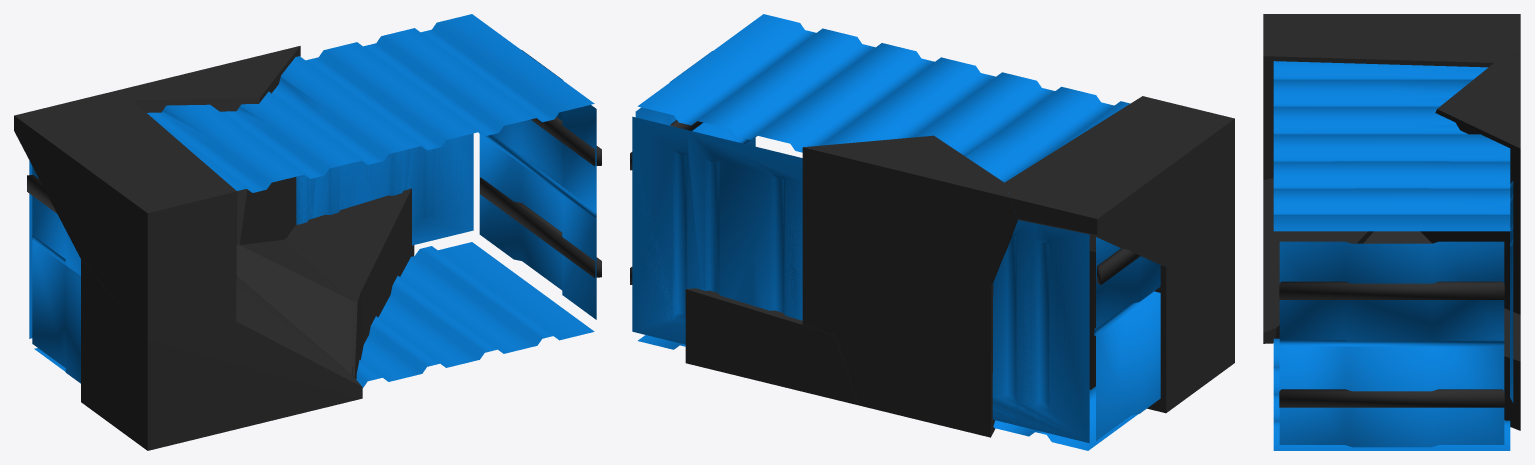
Rendered from Container Blue Destroy.fbx.
3 views of the same model, side by side, from view 1: azimuth 30°, elevation 25°; view 2: azimuth 150°, elevation 25°; view 3: azimuth 270°, elevation 25° (orthographic). The views are drawn at different scales.
Parts seen in each view (by area): view 1: Big_Container_Long.018_cell, Big_Container_Long.018_cell.001, Big_Container_Long.018_cell.006, Big_Container_Long.018_cell.009, Big_Container_Long.018_cell.010, Big_Container_Long.018_cell.003, Big_Container_Long.018_cell.013, Big_Container_Long.018_cell.015, Big_Container_Long.018_cell.012, Big_Container_Long.018_cell.004, Big_Container_Long.018_cell.005; view 2: Big_Container_Long.018_cell, Big_Container_Long.018_cell.001, Big_Container_Long.018_cell.006, Big_Container_Long.018_cell.003, Big_Container_Long.018_cell.009, Big_Container_Long.018_cell.011, Big_Container_Long.018_cell.015, Big_Container_Long.018_cell.014, Big_Container_Long.018_cell.013, Big_Container_Long.018_cell.004, Big_Container_Long.018_cell.010, Big_Container_Long.018_cell.008; view 3: Big_Container_Long.018_cell, Big_Container_Long.018_cell.010, Big_Container_Long.018_cell.006, Big_Container_Long.018_cell.012, Big_Container_Long.018_cell.005, Big_Container_Long.018_cell.009, Big_Container_Long.018_cell.001, Big_Container_Long.018_cell.003, Big_Container_Long.018_cell.013.
Part boxes in pixels (x1=…): Big_Container_Long.018_cell: x1=99, y1=14, x2=594, y2=244; Big_Container_Long.018_cell.001: x1=34, y1=133, x2=594, y2=387; Big_Container_Long.018_cell.006: x1=14, y1=95, x2=237, y2=338; Big_Container_Long.018_cell.009: x1=81, y1=259, x2=362, y2=450; Big_Container_Long.018_cell.010: x1=478, y1=50, x2=596, y2=319; Big_Container_Long.018_cell.003: x1=287, y1=134, x2=473, y2=344; Big_Container_Long.018_cell.013: x1=29, y1=134, x2=473, y2=338; Big_Container_Long.018_cell.015: x1=32, y1=166, x2=80, y2=383; Big_Container_Long.018_cell.012: x1=480, y1=177, x2=601, y2=277; Big_Container_Long.018_cell.004: x1=284, y1=238, x2=363, y2=379; Big_Container_Long.018_cell.005: x1=531, y1=117, x2=601, y2=166; Big_Container_Long.018_cell: x1=637, y1=14, x2=1130, y2=334; Big_Container_Long.018_cell.001: x1=632, y1=116, x2=1137, y2=450; Big_Container_Long.018_cell.006: x1=1004, y1=96, x2=1234, y2=265; Big_Container_Long.018_cell.003: x1=632, y1=121, x2=1089, y2=442; Big_Container_Long.018_cell.009: x1=1089, y1=248, x2=1234, y2=413; Big_Container_Long.018_cell.011: x1=1094, y1=237, x2=1160, y2=440; Big_Container_Long.018_cell.015: x1=1094, y1=237, x2=1160, y2=438; Big_Container_Long.018_cell.014: x1=1095, y1=237, x2=1160, y2=439; Big_Container_Long.018_cell.013: x1=686, y1=154, x2=1086, y2=406; Big_Container_Long.018_cell.004: x1=823, y1=334, x2=858, y2=405; Big_Container_Long.018_cell.010: x1=635, y1=51, x2=756, y2=146; Big_Container_Long.018_cell.008: x1=1097, y1=248, x2=1140, y2=284; Big_Container_Long.018_cell: x1=1273, y1=54, x2=1520, y2=314; Big_Container_Long.018_cell.010: x1=1279, y1=241, x2=1504, y2=447; Big_Container_Long.018_cell.006: x1=1263, y1=14, x2=1520, y2=179; Big_Container_Long.018_cell.012: x1=1279, y1=389, x2=1504, y2=407; Big_Container_Long.018_cell.005: x1=1279, y1=281, x2=1504, y2=299; Big_Container_Long.018_cell.009: x1=1263, y1=178, x2=1367, y2=343; Big_Container_Long.018_cell.001: x1=1273, y1=201, x2=1513, y2=450; Big_Container_Long.018_cell.003: x1=1504, y1=181, x2=1520, y2=430; Big_Container_Long.018_cell.013: x1=1510, y1=181, x2=1513, y2=402.
Bounding box in the file's own units: 747 × 367 × 374.
